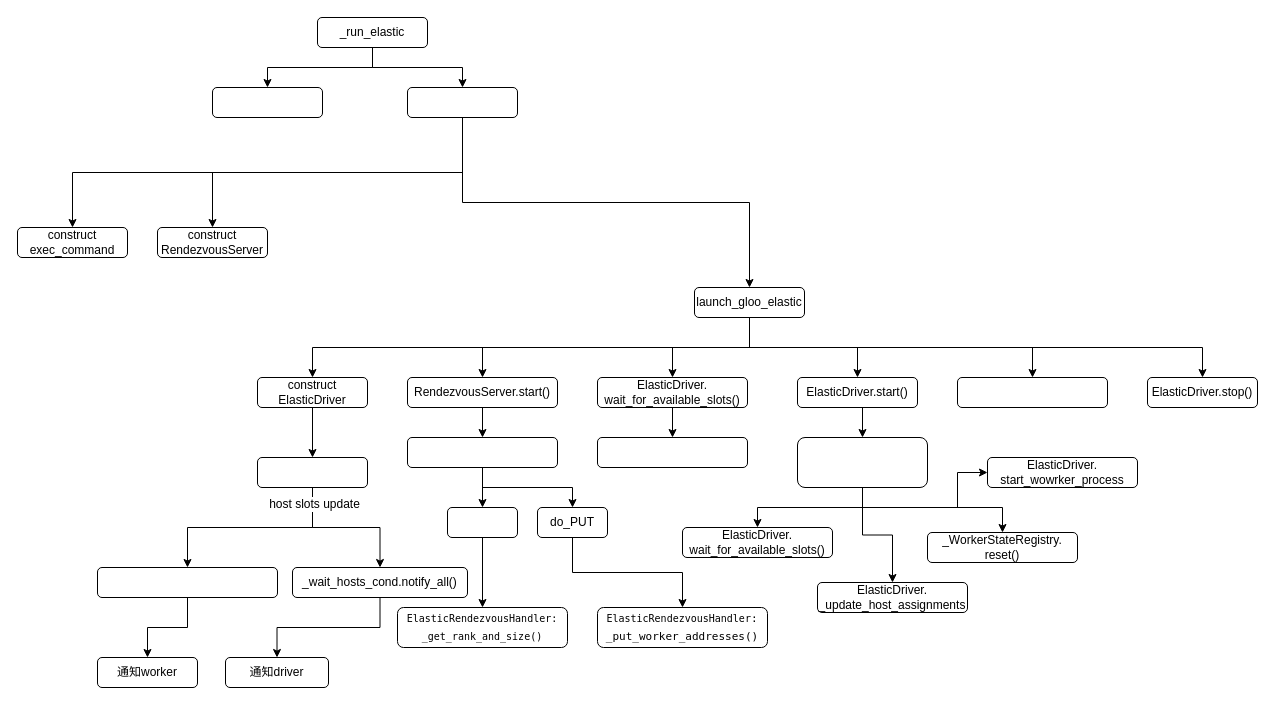
Image size: 1275x705. Some labels were removed from this diagram. The shapes that lost their labels are listed below. From the top down, each one's centre as x and y in pixels, then its label:
At pixel 267 102: "construct ElasticSettings".
At pixel 462 102: "gloo_run_elastic".
At pixel 1032 392: "ElasticDriver.get_result()".
At pixel 312 472: "start discover_host thread".
At pixel 482 452: "ElasticRendezvousHandler".
At pixel 672 452: "_wait_hosts_cond.wait".
At pixel 862 462: "ElasticDriver. _activate_workers()".
At pixel 482 522: "do_GET".
At pixel 187 582: "_notify_workers_host_changes".
